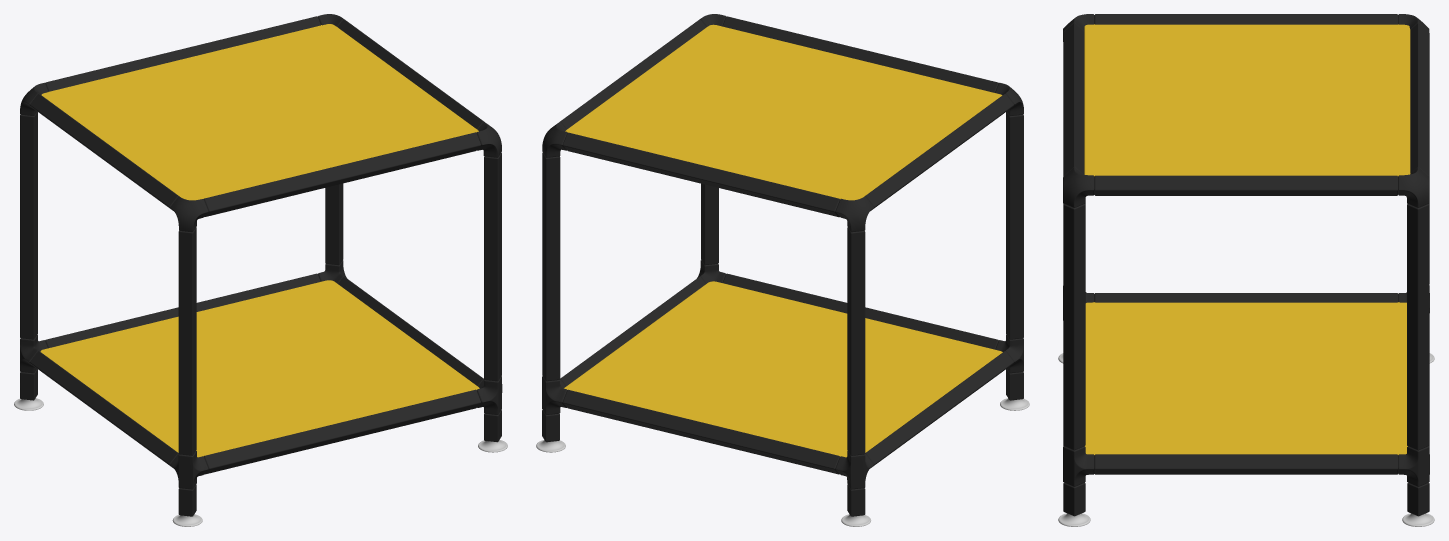
3 renders of one model, left to right at view 1: azimuth 30°, elevation 25°; view 2: azimuth 150°, elevation 25°; view 3: azimuth 270°, elevation 25°, orthographic. The views are drawn at different scales.
Parts seen in each view (by area): view 1: 420x374x330; view 2: 420x374x330; view 3: 420x374x330.
Part boxes in pixels (x1,y1,x2,y2): 420x374x330: (14, 14, 507, 526); 420x374x330: (536, 14, 1029, 526); 420x374x330: (1058, 14, 1434, 526).
Bounding box in the file's own units: 0.5099 × 0.4683 × 0.4632.
